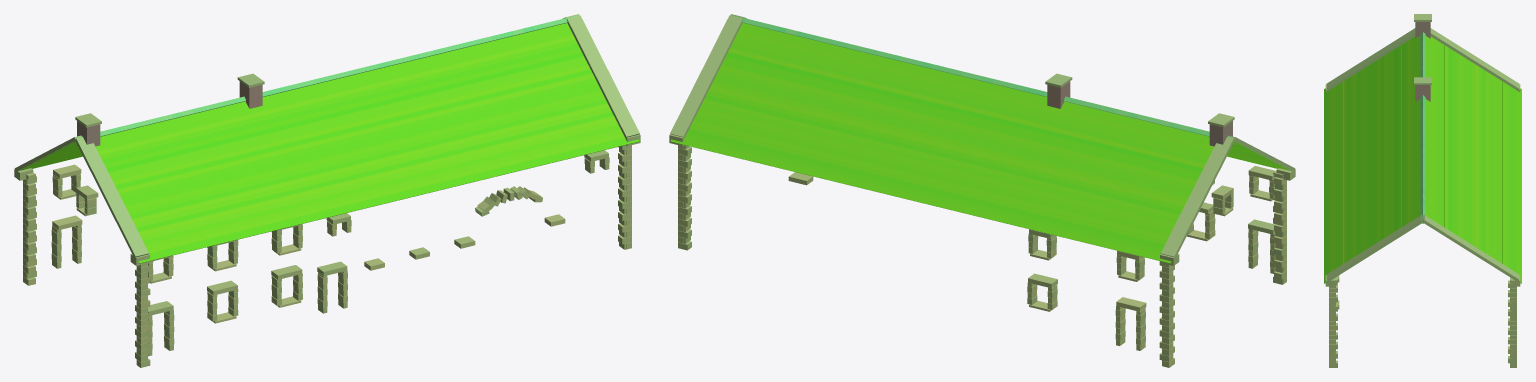
File: SM_Bld_233_Stone.glb
The picture shows the model from 3 angles, left to right: view 1: azimuth 30°, elevation 25°; view 2: azimuth 150°, elevation 25°; view 3: azimuth 270°, elevation 25°; orthographic projection. The views are drawn at different scales.
Parts seen in each view (by area): view 1: SM_Bld_233_Stone; view 2: SM_Bld_233_Stone; view 3: SM_Bld_233_Stone.
Boxes of the visible parts, box(x1,y1,x2,y2) form: SM_Bld_233_Stone: box(14, 14, 640, 367); SM_Bld_233_Stone: box(669, 14, 1295, 367); SM_Bld_233_Stone: box(1324, 14, 1521, 367).
Bounding box in the file's own units: 26.84 × 10.37 × 11.44.
